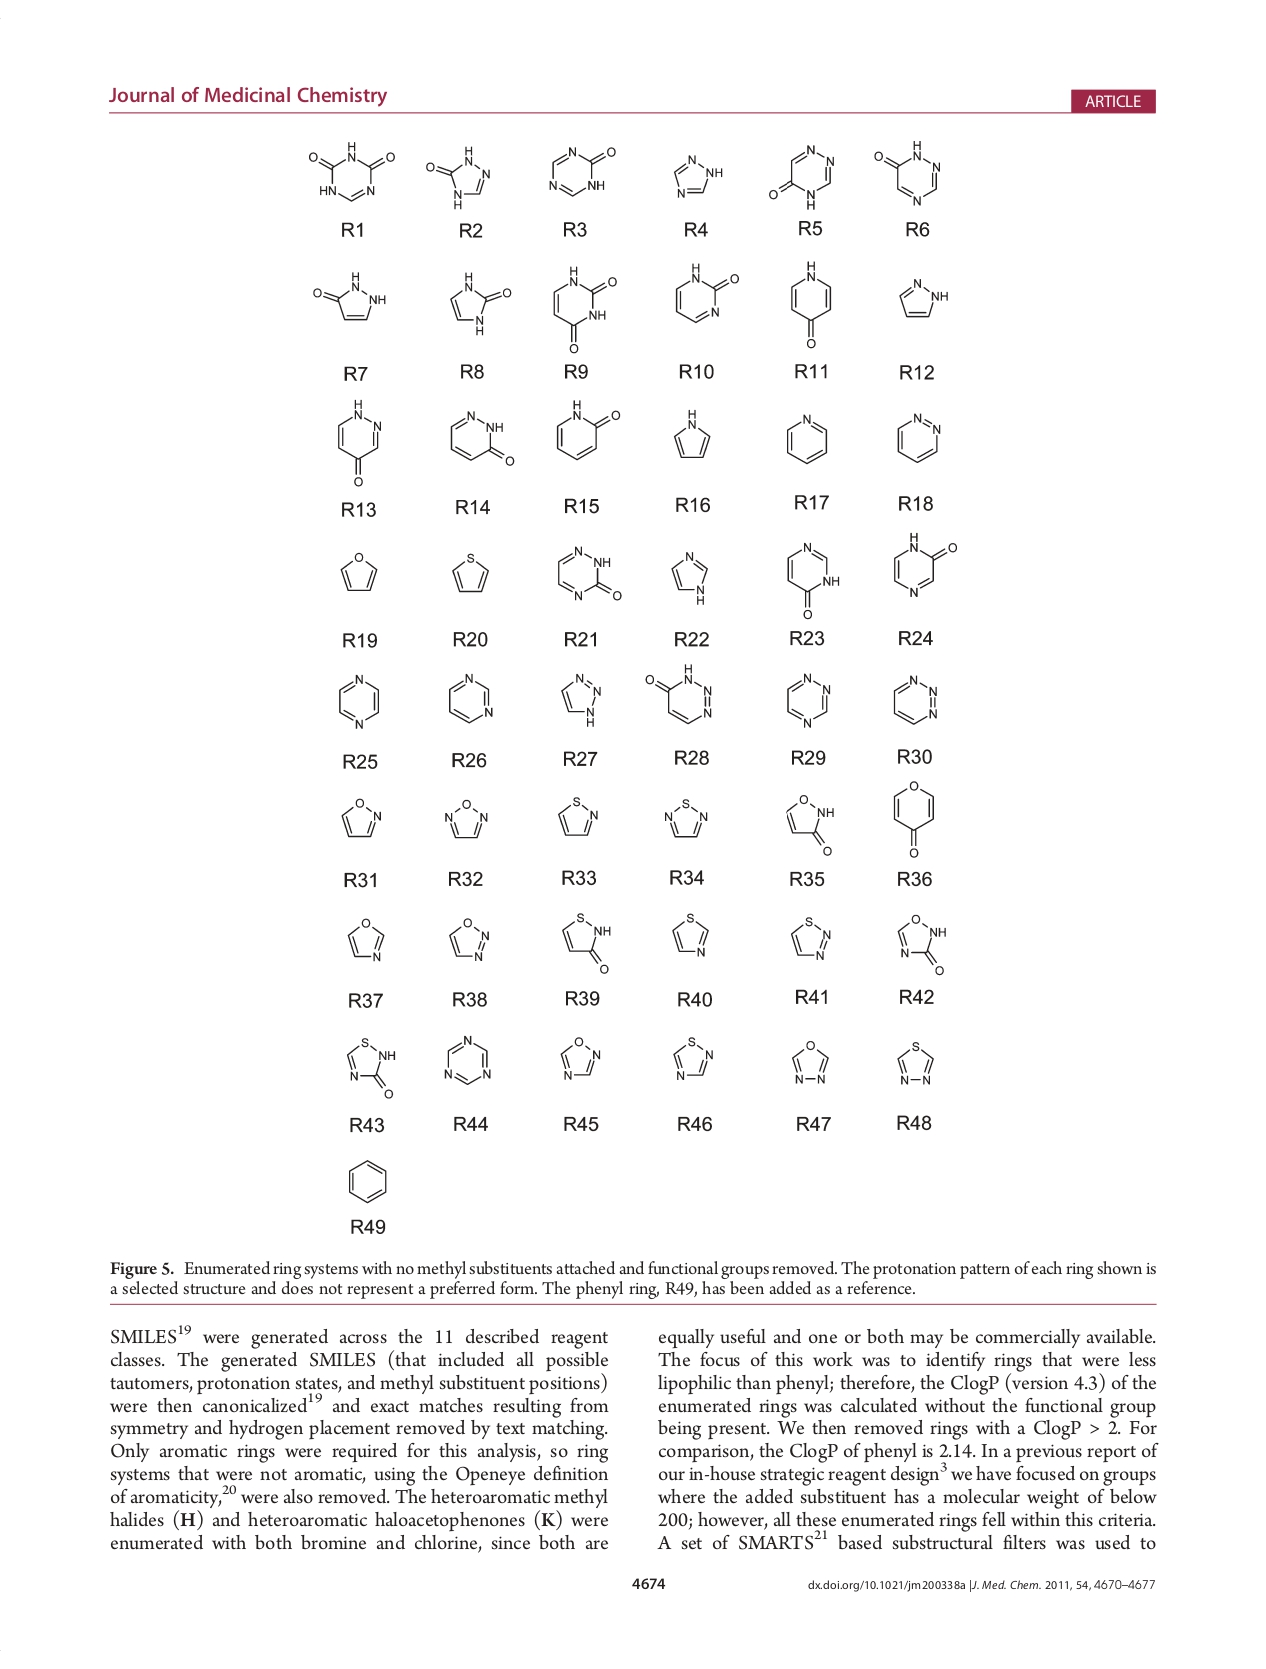exist_molecular: (309, 136, 398, 203), (551, 265, 618, 354), (872, 136, 944, 207), (332, 395, 386, 489), (888, 528, 957, 598), (644, 660, 715, 727), (785, 257, 836, 350), (767, 142, 836, 211), (886, 775, 940, 862), (553, 394, 622, 461), (669, 261, 741, 326), (785, 539, 840, 622), (444, 406, 517, 469), (445, 270, 515, 336), (553, 543, 625, 606), (309, 269, 390, 324), (426, 145, 492, 210), (438, 1027, 497, 1098), (340, 1035, 402, 1104), (892, 906, 949, 977), (559, 908, 614, 979), (545, 144, 616, 198), (783, 791, 840, 856), (442, 670, 497, 729), (781, 669, 832, 730), (890, 669, 942, 729), (556, 669, 605, 730), (442, 911, 496, 965), (668, 152, 726, 202), (891, 408, 942, 465), (328, 793, 386, 843), (334, 672, 383, 730), (786, 912, 835, 968), (666, 548, 713, 606), (668, 906, 710, 969), (782, 411, 831, 465), (440, 797, 496, 844), (669, 403, 713, 463), (553, 1033, 604, 1085), (340, 1156, 391, 1208), (782, 1039, 830, 1093), (898, 274, 951, 322), (891, 1037, 939, 1091), (340, 915, 388, 965), (660, 793, 709, 840), (445, 551, 493, 598), (553, 793, 601, 840), (332, 551, 382, 597), (670, 1035, 714, 1084)
